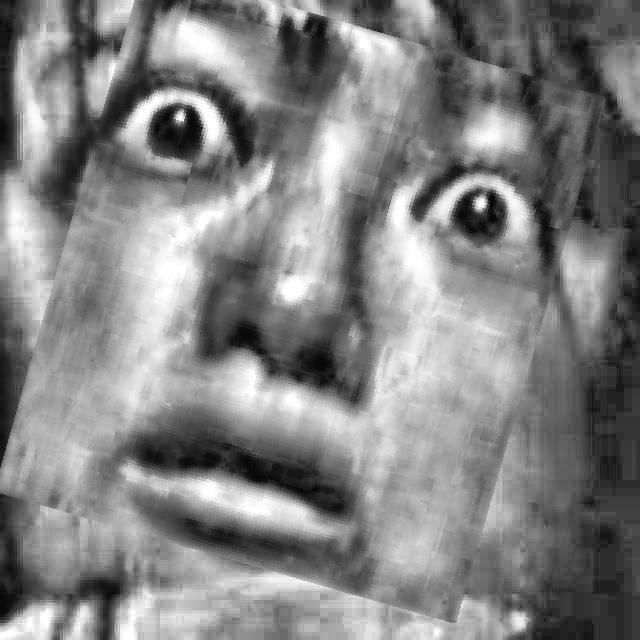fear: (26, 0, 573, 595)
